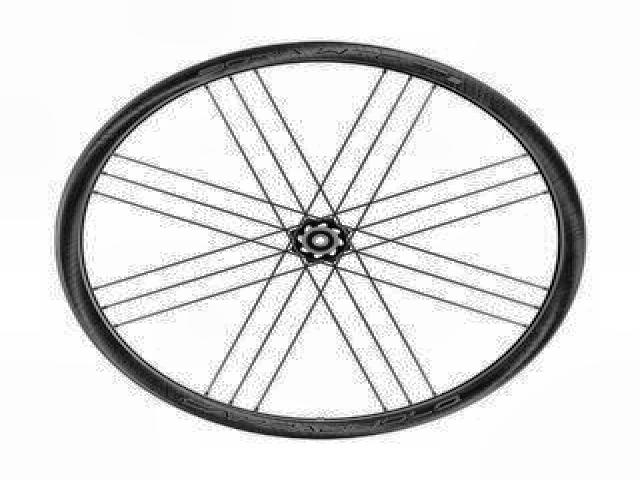wheel: (41, 34, 594, 447)
